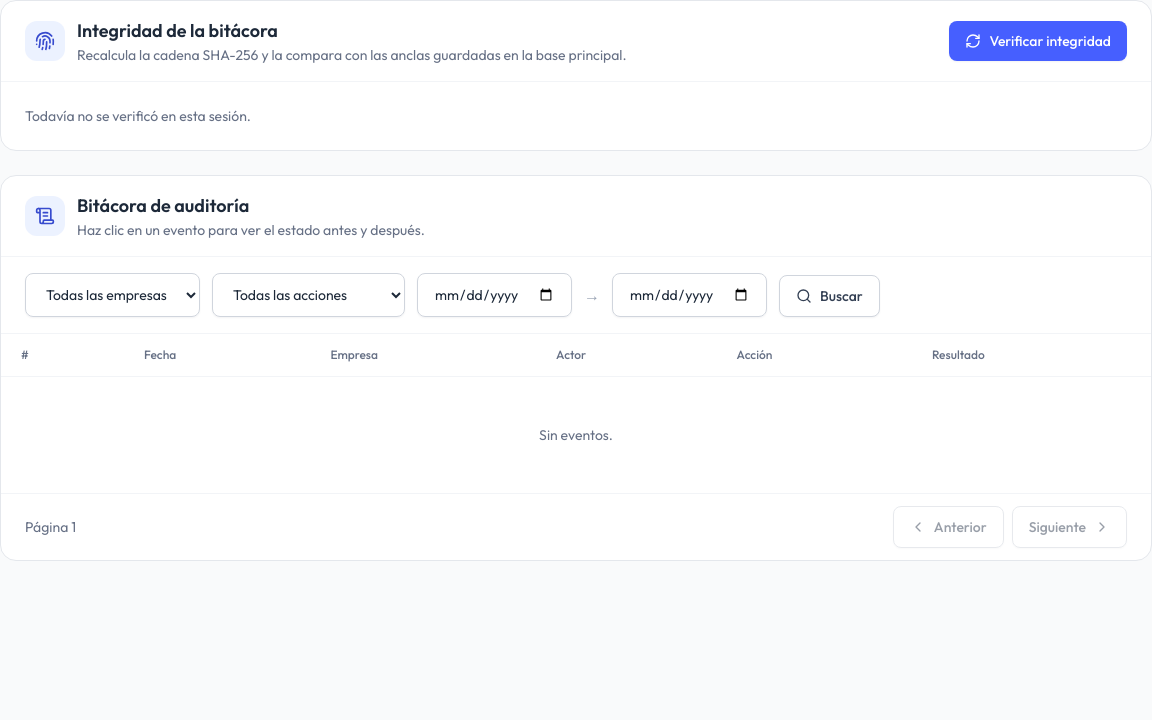
Test: Auditoría › plataforma: una bitácora íntegra se informa como tal
What coordinates should you click on to do the following:
click the button "Verificar integridad"
I would click on:
 (1038, 41)
Its box is [950,21,1127,61].
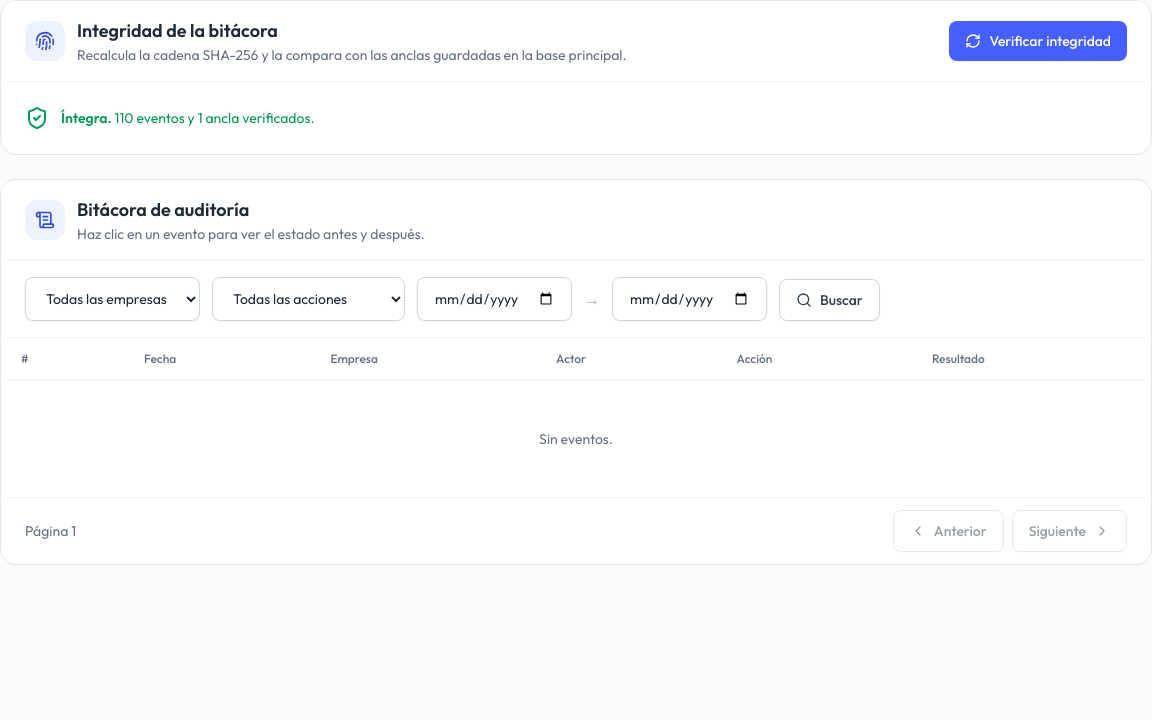
Check: the text "Íntegra. 110 eventos y 1 ancla verificados." is shown, box [61,108,314,128]
